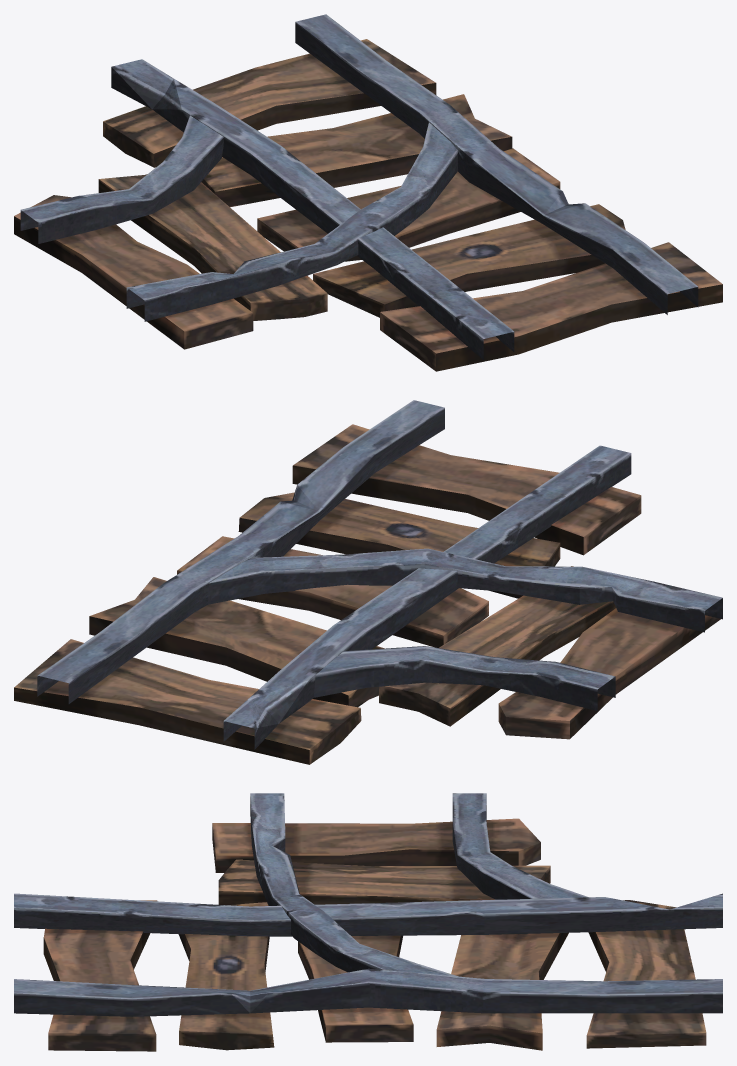
Rendered from mine_track_t.fbx.
The picture shows the model from 3 angles, top to bottom: view 1: azimuth 30°, elevation 25°; view 2: azimuth 150°, elevation 25°; view 3: azimuth 270°, elevation 25°; orthographic projection. The views are drawn at different scales.
Parts seen in each view (by area): view 1: mine_rails/mine_rails01; view 2: mine_rails/mine_rails01; view 3: mine_rails/mine_rails01.
Part boxes in pixels (x1,y1,x2,y2): mine_rails/mine_rails01: (14, 14, 722, 371); mine_rails/mine_rails01: (14, 400, 722, 764); mine_rails/mine_rails01: (14, 793, 722, 1051).
Bounding box in the file's own units: 2.95 × 0.2947 × 4.
